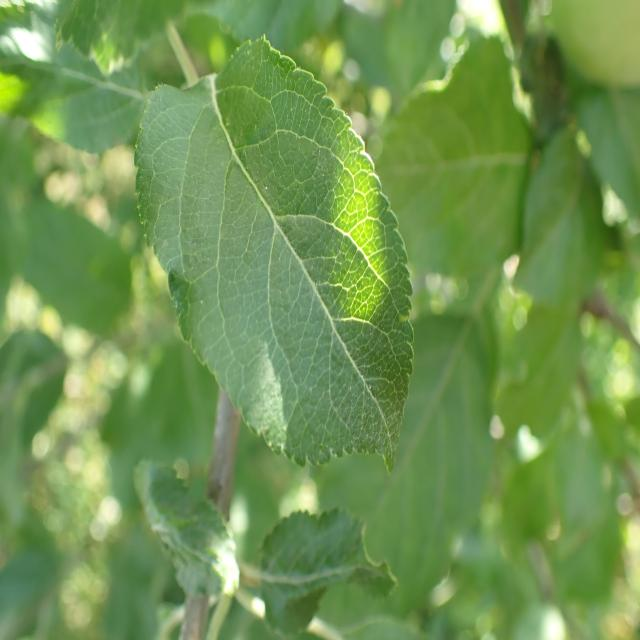healthy: (133, 32, 415, 472)
